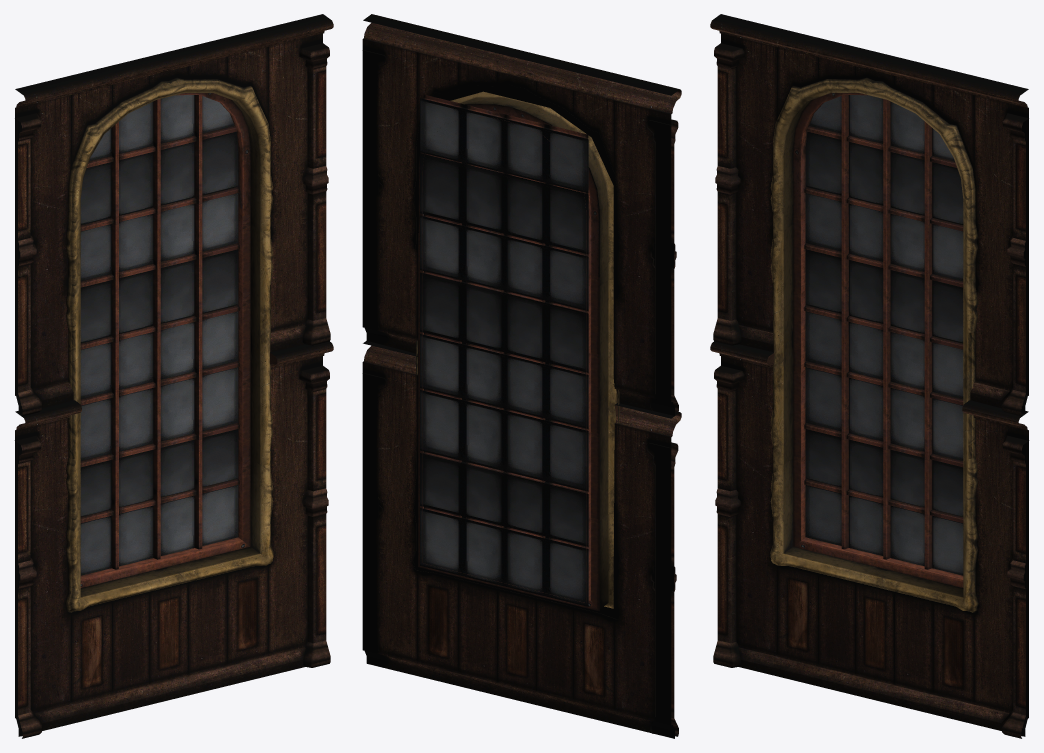
File: window02_large_blue_01.DAE
3 renders of one model, left to right at view 1: azimuth 30°, elevation 25°; view 2: azimuth 150°, elevation 25°; view 3: azimuth 330°, elevation 25°, orthographic.
Visible parts, largest first — view 1: default021, window02_large_glass_yellow007, Object006; view 2: default021, window02_large_glass_yellow007, Object006; view 3: default021, window02_large_glass_yellow007, Object006.
Part boxes in pixels (x1,y1,x2,y2): default021: (14, 14, 333, 738); window02_large_glass_yellow007: (80, 95, 238, 575); Object006: (65, 77, 273, 612); default021: (362, 14, 681, 738); window02_large_glass_yellow007: (420, 98, 588, 606); Object006: (413, 85, 620, 619); default021: (710, 14, 1029, 738); window02_large_glass_yellow007: (805, 95, 963, 575); Object006: (770, 77, 978, 612).
Bounding box in the file's own units: 4 × 8 × 0.5209.
